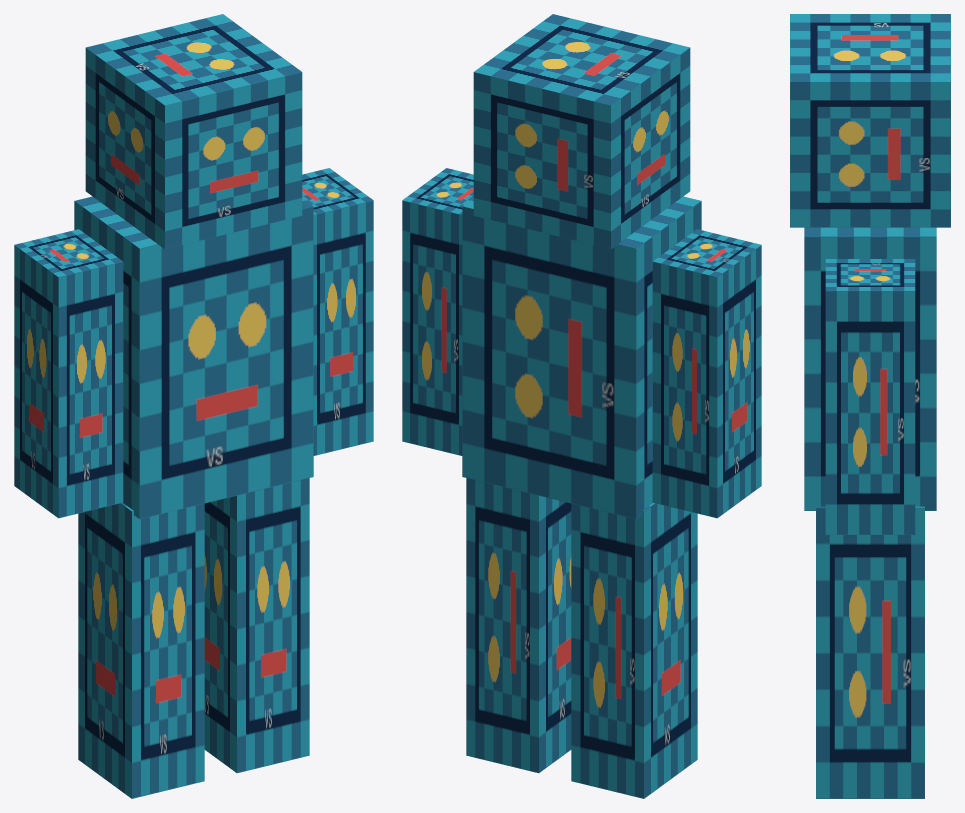
File: player.obj
3 renders of one model, left to right at view 1: azimuth 30°, elevation 25°; view 2: azimuth 150°, elevation 25°; view 3: azimuth 270°, elevation 25°, orthographic.
Visible parts, largest first — view 1: Torso, Cabeca, PernaL, BracoL, PernaR, BracoR; view 2: Torso, Cabeca, PernaL, BracoL, PernaR, BracoR; view 3: Cabeca, PernaR, BracoR, Torso.
Part boxes in pixels (bbox=[...]): Torso: bbox=[74, 196, 313, 519]; Cabeca: bbox=[85, 14, 302, 249]; PernaL: bbox=[78, 502, 204, 798]; BracoL: bbox=[14, 229, 123, 518]; PernaR: bbox=[204, 478, 309, 773]; BracoR: bbox=[302, 168, 373, 455]; Torso: bbox=[462, 196, 701, 519]; Cabeca: bbox=[473, 14, 690, 249]; PernaL: bbox=[571, 502, 697, 798]; BracoL: bbox=[652, 229, 761, 518]; PernaR: bbox=[466, 478, 571, 773]; BracoR: bbox=[402, 168, 473, 455]; Cabeca: bbox=[790, 14, 950, 227]; PernaR: bbox=[816, 506, 924, 798]; BracoR: bbox=[825, 259, 915, 534]; Torso: bbox=[804, 227, 936, 510].
Size of the model in its own units: 0.78 by 1.65 by 0.34.
Materials: 1 (1 with a texture image).
